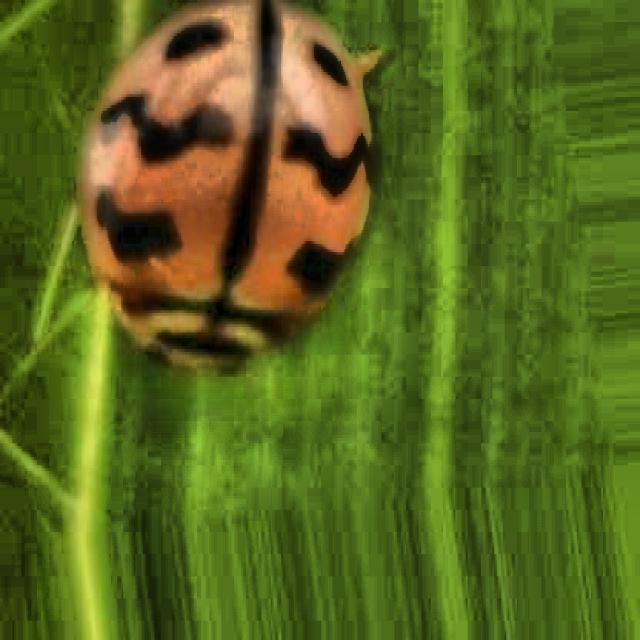Asian-Lady-beetle: (49, 0, 427, 395)
